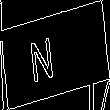N_N: (41, 26, 69, 84)
